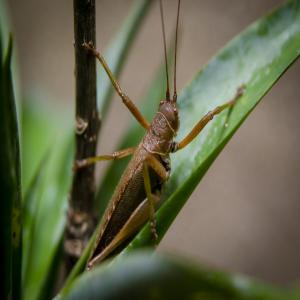locust: (66, 58, 217, 300)
